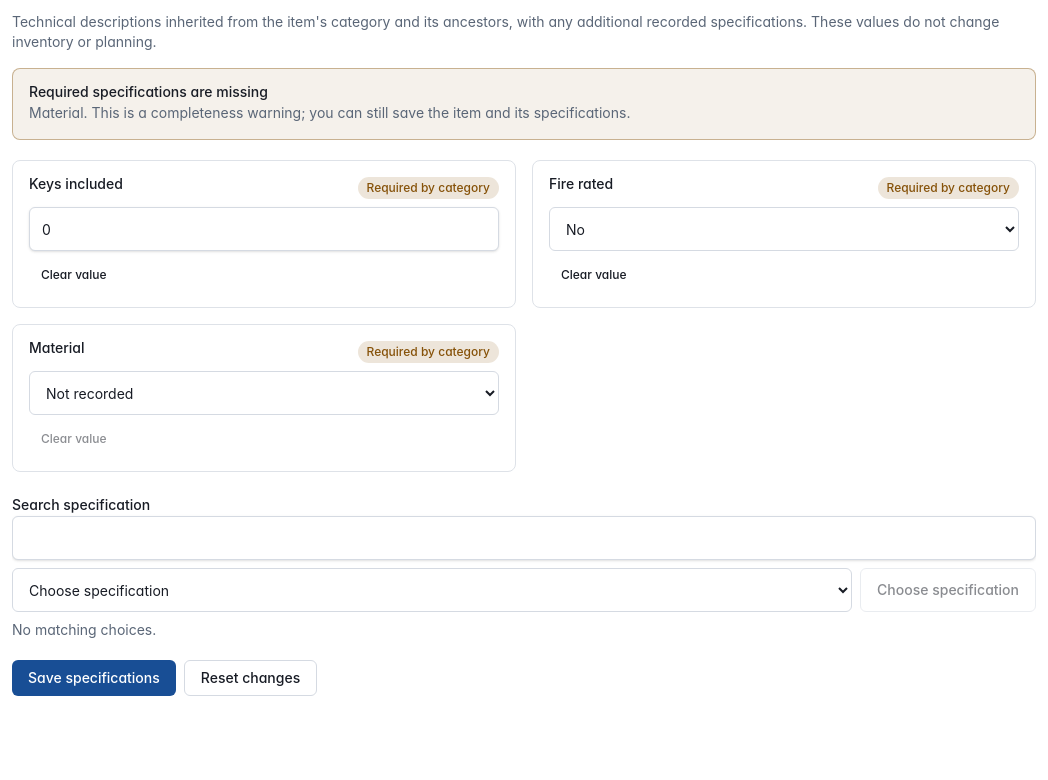
it: item specification editor › preserves drafts and associates an API field refusal with its typed control
Click the button "Save specifications": (94, 678) [12, 660, 176, 696]
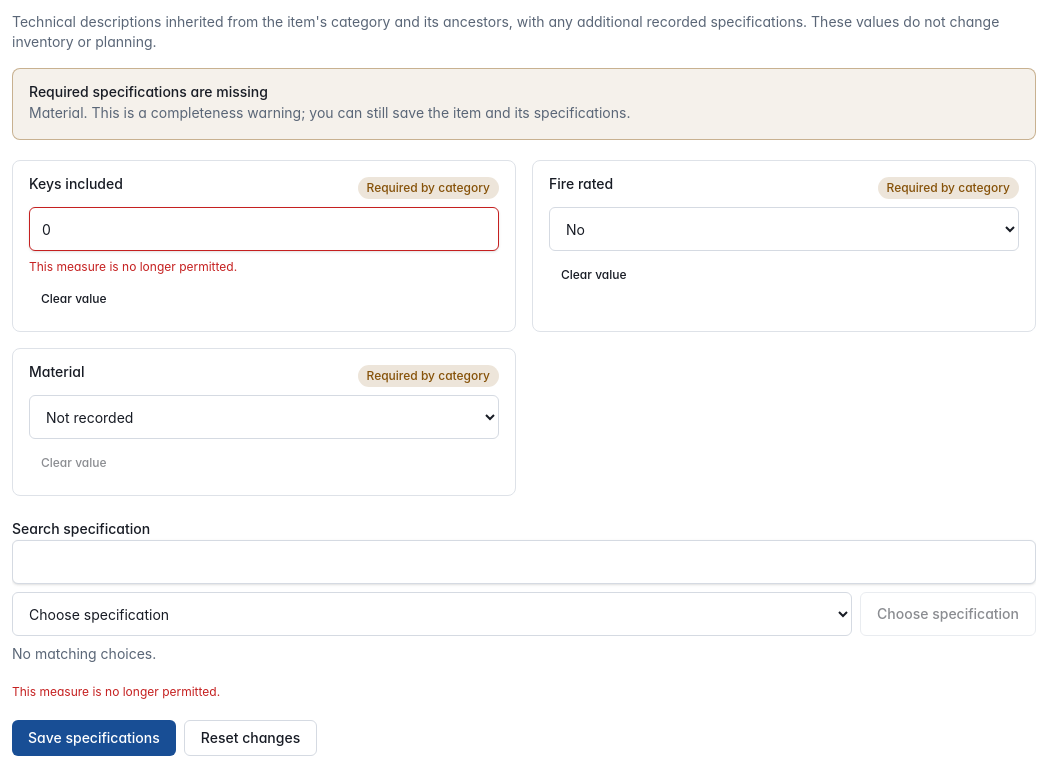
Expected: the field labelled "Keys included" holds "0", [29, 207, 499, 251]
Expected: the text "This measure is no longer permitted." below "Keys included" is shown, [29, 259, 237, 274]
